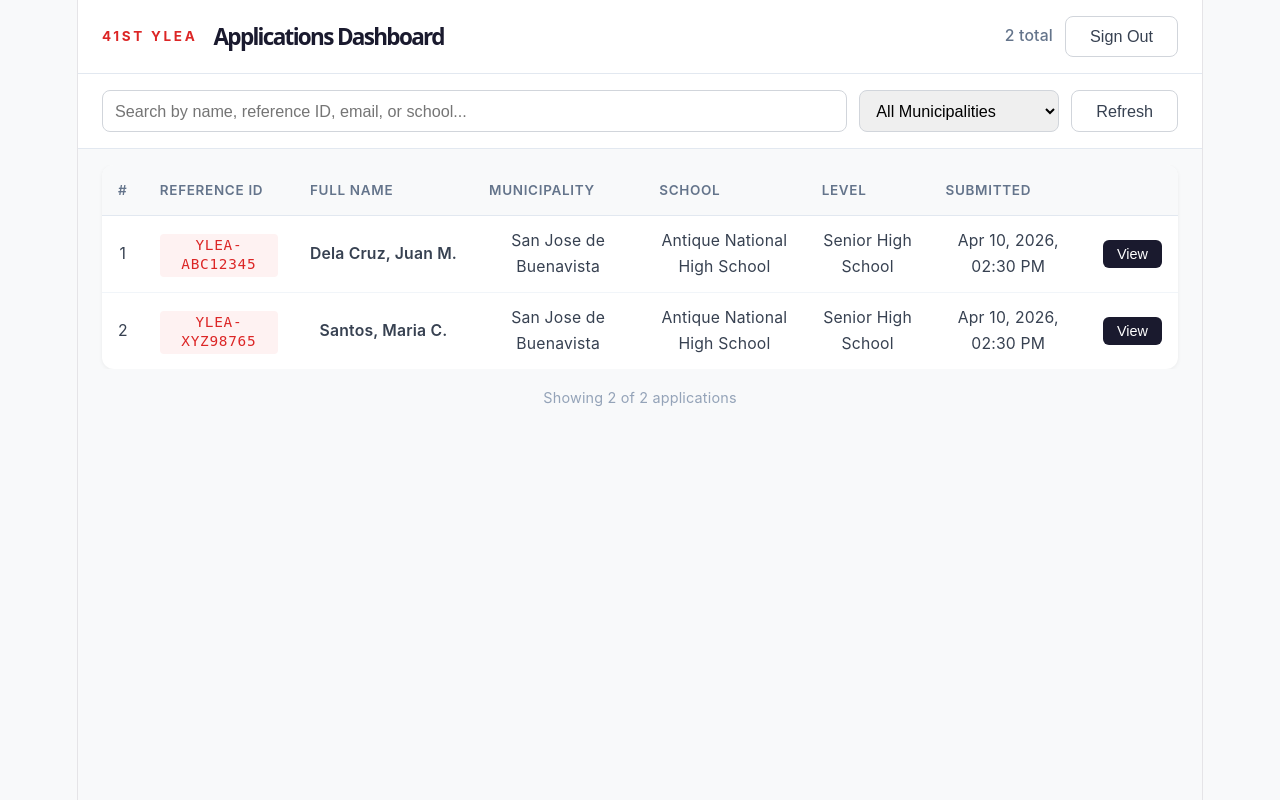
Test: O. Admin Dashboard › O13 — Search no results message
Expected: the heading "Applications Dashboard" is shown, [214, 24, 444, 51]
Expected: the text "Dela Cruz, Juan M." is shown, [294, 216, 473, 293]
In the field with placeholder "Search by name, reference ID, email, or school...": (475, 111) [102, 90, 847, 132], type "nonexistentperson"
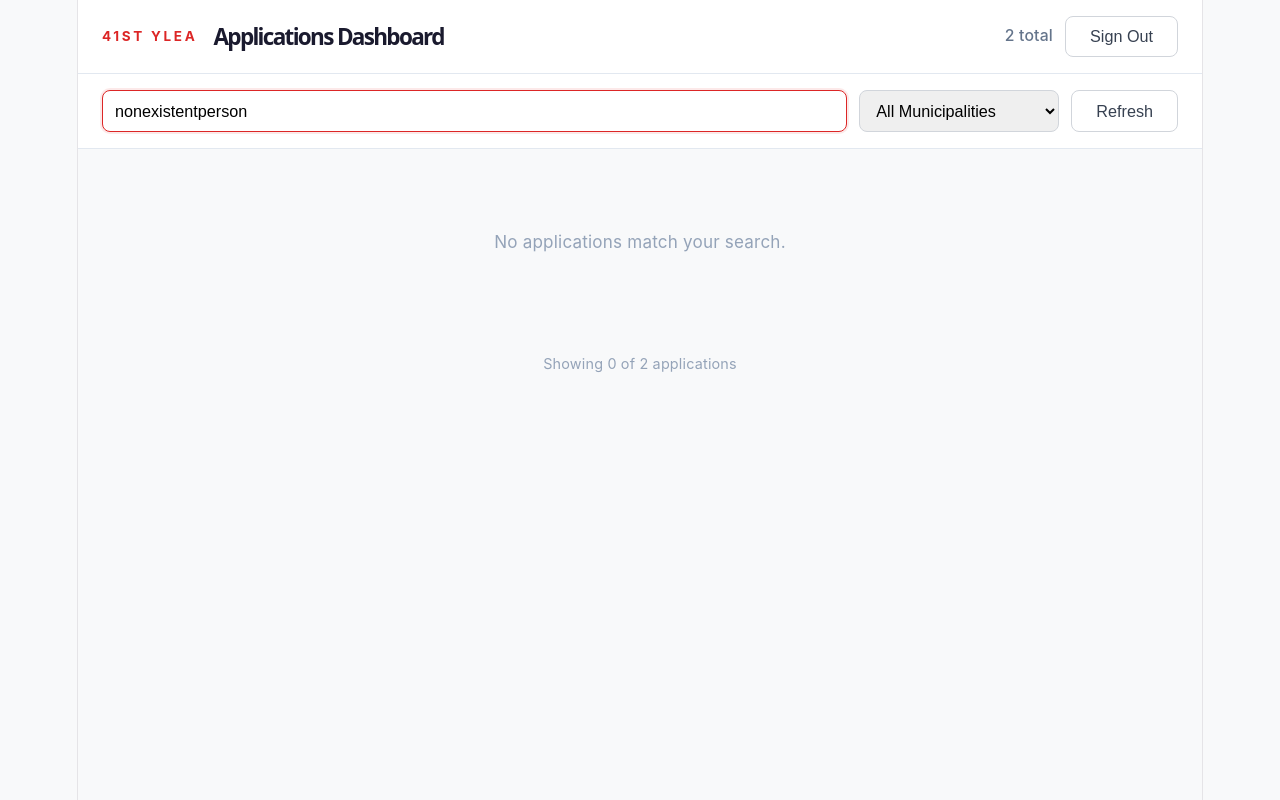
Result: the text "No applications match your search." is shown at [494, 231, 786, 252]
